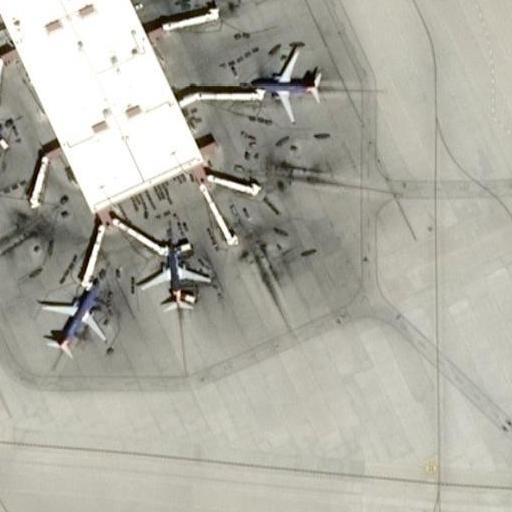Aircraft: (247, 45, 325, 120), (33, 276, 106, 356), (138, 242, 213, 310), (0, 112, 2, 182)
